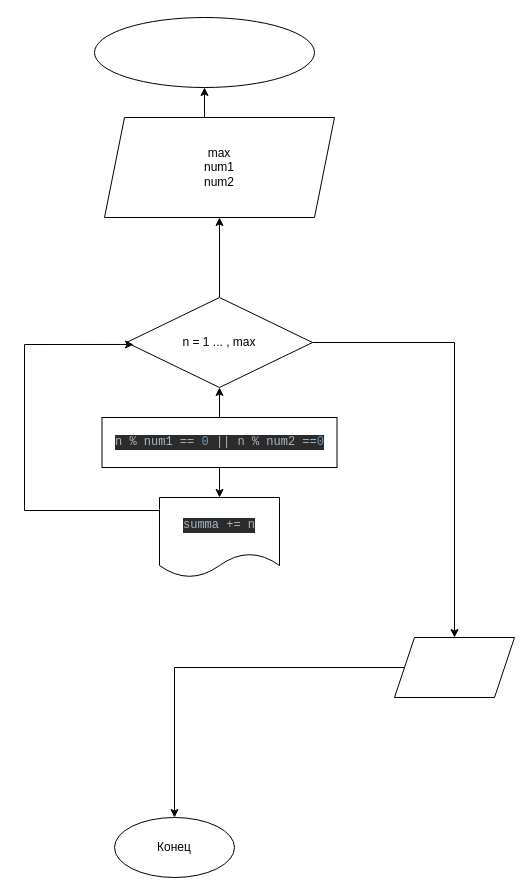
The diagram is 532 pixels wide and 895 high, and some of its shapes have lost their labels. The centre of each missing label's shape, as x and y in pixels:
"summa" goes at pixel 454 667.
"Начало программы Task01.java" goes at pixel 204 52.
